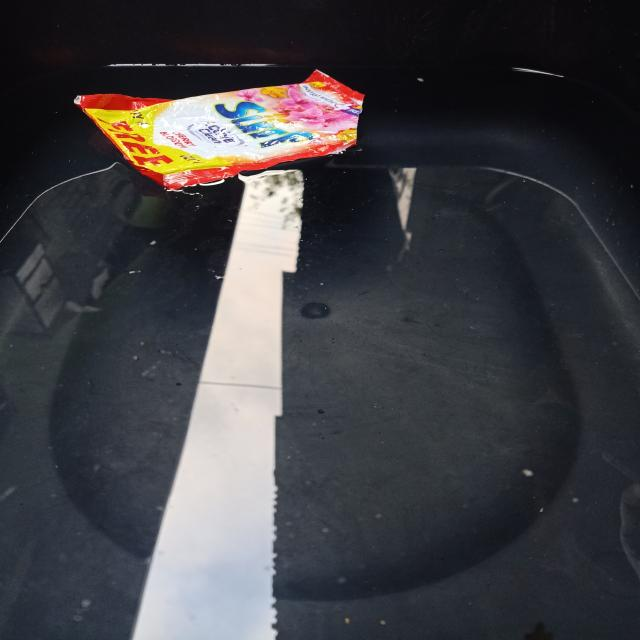Plastic Wrapper: (75, 70, 364, 189)
